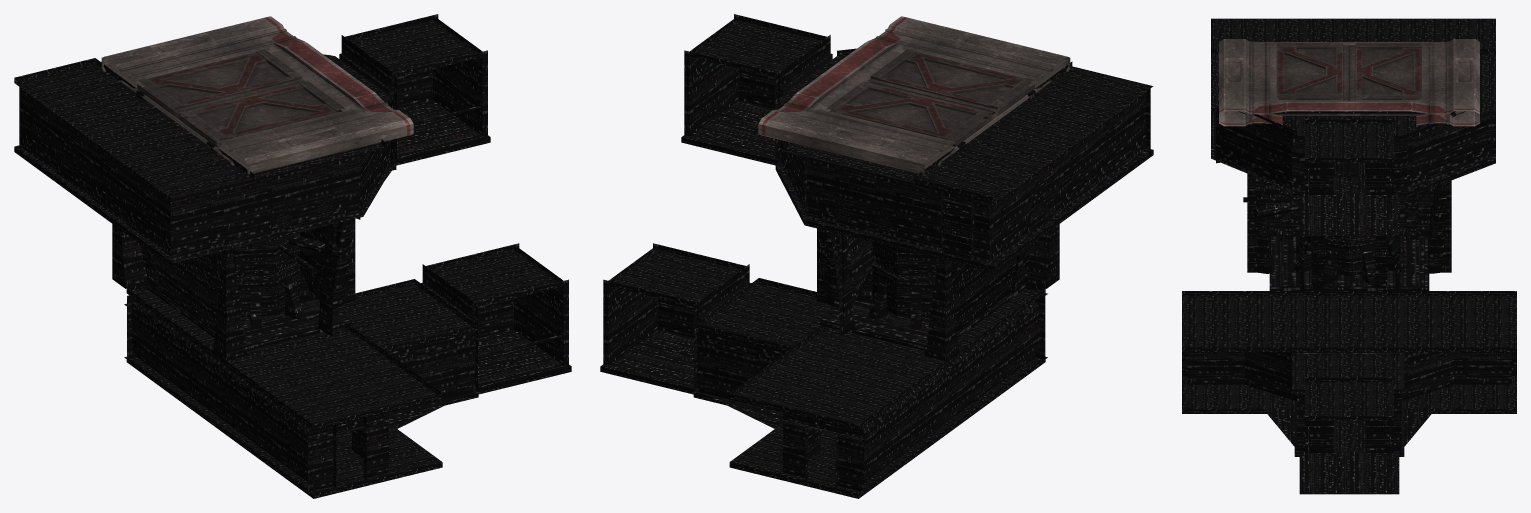
The model's file is room2nuke_opt.obj.
3 views of the same model, side by side, from view 1: azimuth 30°, elevation 25°; view 2: azimuth 150°, elevation 25°; view 3: azimuth 270°, elevation 25° (orthographic). The views are drawn at different scales.
Size of the model in its own units: 2832 by 2048 by 2048.
